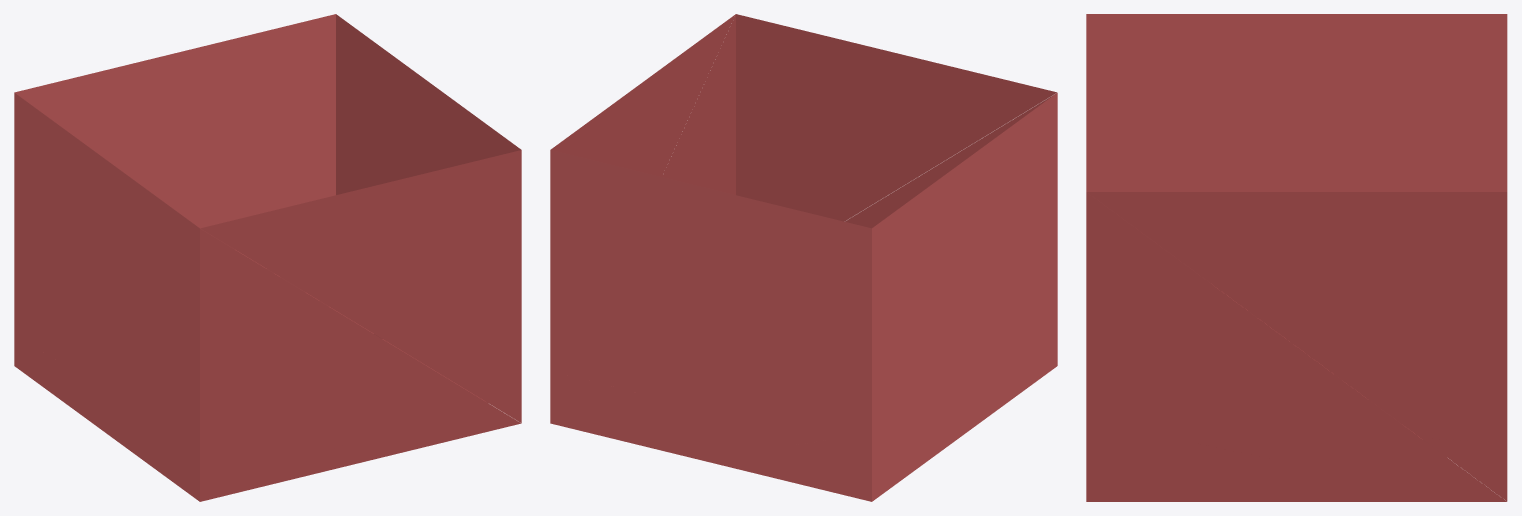
Rendered from bombhei_map.glb.
The picture shows the model from 3 angles, left to right: view 1: azimuth 30°, elevation 25°; view 2: azimuth 150°, elevation 25°; view 3: azimuth 270°, elevation 25°; orthographic projection. The views are drawn at different scales.
Visible parts, largest first — view 1: bombhei_map_col; view 2: bombhei_map_col; view 3: bombhei_map_col.
Part boxes in pixels (left/top/right/bottom): bombhei_map_col: left=14, top=14, right=521, bottom=501; bombhei_map_col: left=550, top=14, right=1057, bottom=501; bombhei_map_col: left=1086, top=14, right=1507, bottom=501.
Size of the model in its own units: 16 by 13.38 by 16.01.
